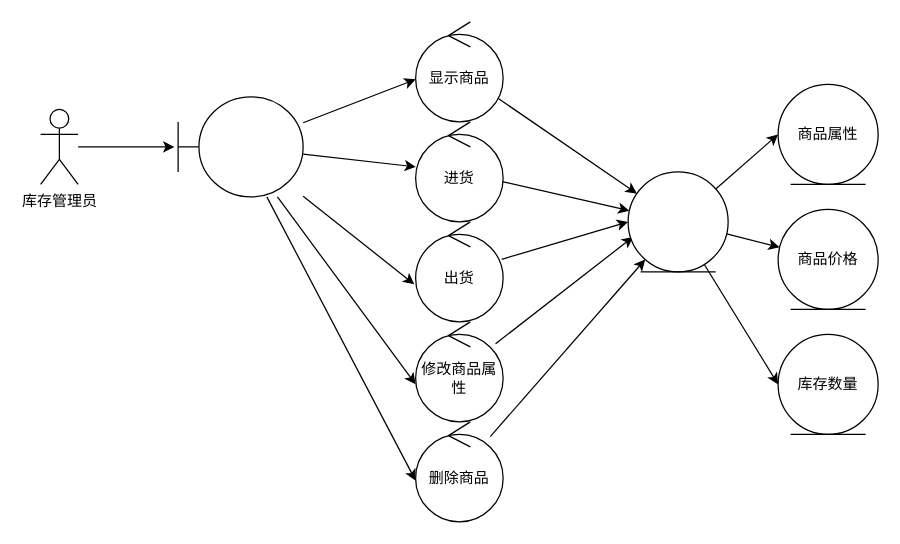
This 900x544 diagram has some shape labels left out. The centre of each missing label's shape, as x and y in pixels:
"库存清单" belongs at pixel 677 221.
"库存管理GUI" belongs at pixel 240 146.
